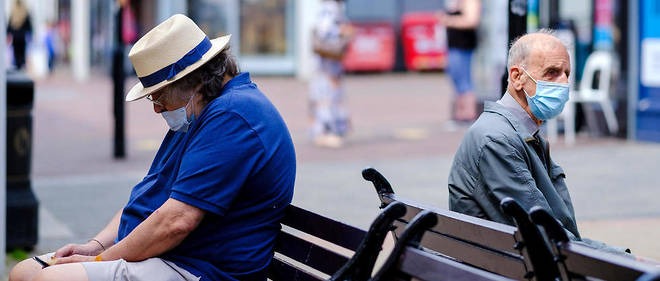with_incorrect_mask: (142, 81, 204, 135)
with_mask: (525, 51, 573, 125)
